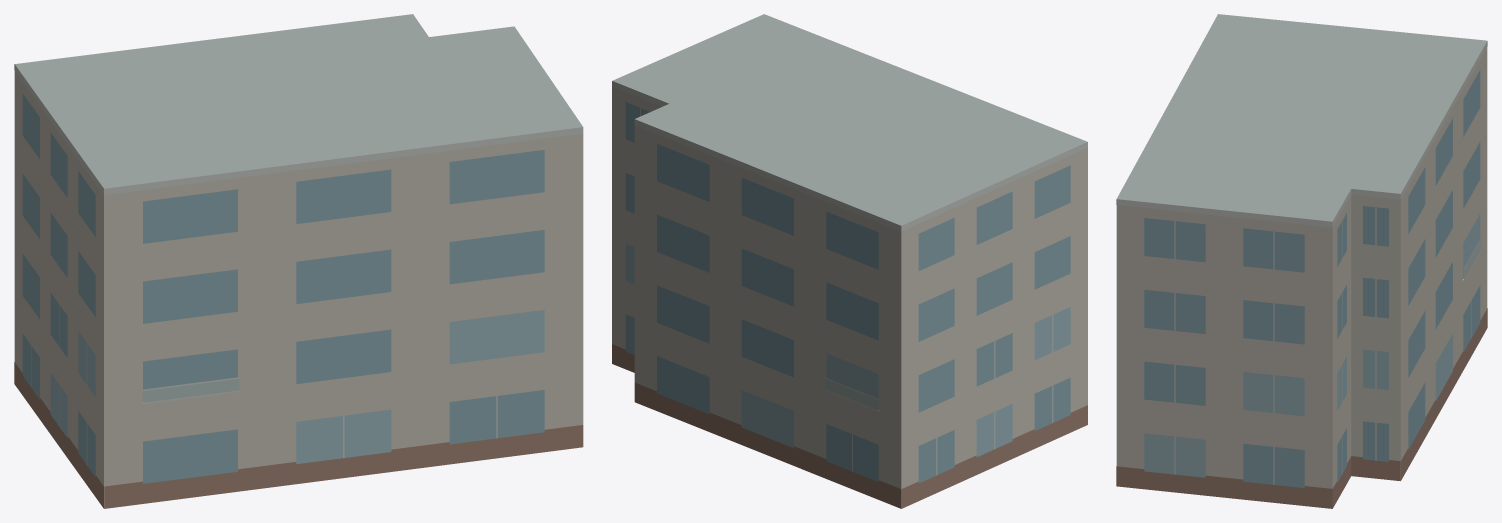
File: survey-upis-32539292.glb
3 renders of one model, left to right at view 1: azimuth 30°, elevation 25°; view 2: azimuth 150°, elevation 25°; view 3: azimuth 270°, elevation 25°, orthographic. The views are drawn at different scales.
Visible parts, largest first — view 1: survey-upis-32539292.tmp; view 2: survey-upis-32539292.tmp; view 3: survey-upis-32539292.tmp.
Part boxes in pixels (x1=…): survey-upis-32539292.tmp: x1=14, y1=14, x2=583, y2=508; survey-upis-32539292.tmp: x1=612, y1=14, x2=1087, y2=508; survey-upis-32539292.tmp: x1=1116, y1=14, x2=1487, y2=508.
Bounding box in the file's own units: 18.77 × 12.1 × 14.18.
